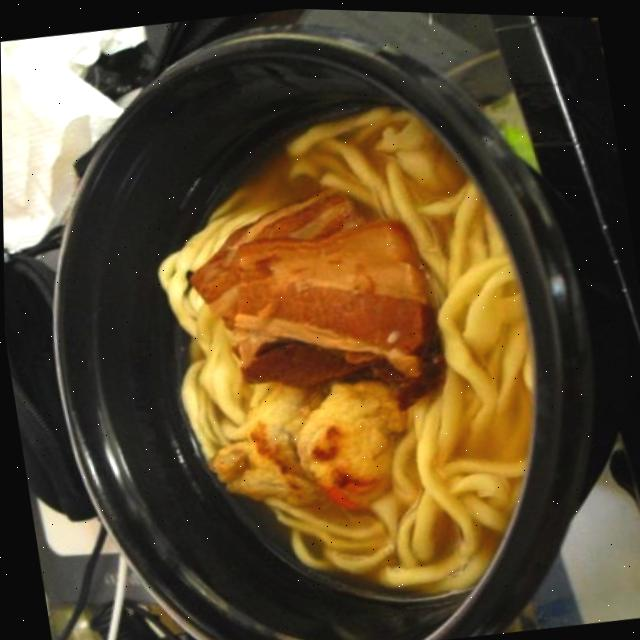猪肉菜式: (0, 0, 518, 640)
